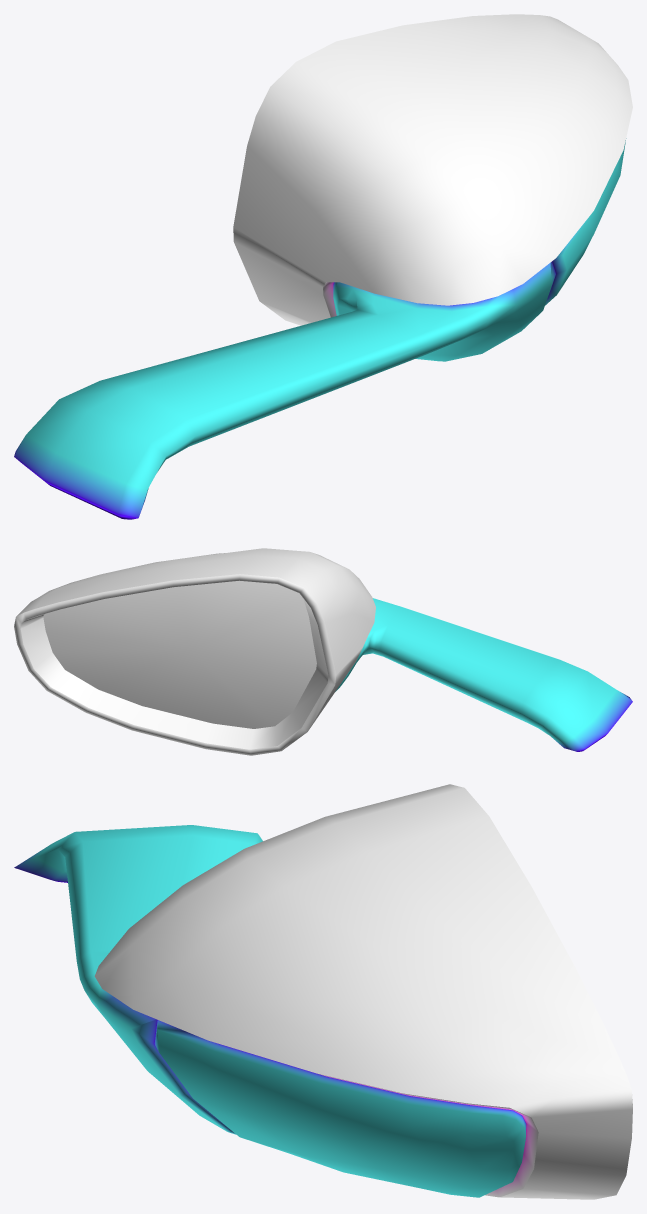
Rendered from Car_Ford_GT_2017_MirrorL_SetA.fbx.
3 renders of one model, top to bottom at view 1: azimuth 30°, elevation 25°; view 2: azimuth 150°, elevation 25°; view 3: azimuth 270°, elevation 25°, orthographic. The views are drawn at different scales.
Parts seen in each view (by area): view 1: MirrorL 6; view 2: MirrorL 6; view 3: MirrorL 6.
Boxes of the visible parts, x1,y1,x2,y2 form: MirrorL 6: [14, 14, 632, 519]; MirrorL 6: [14, 548, 632, 755]; MirrorL 6: [14, 784, 632, 1199].
Size of the model in its own units: 0.3719 by 0.1341 by 0.2313.
